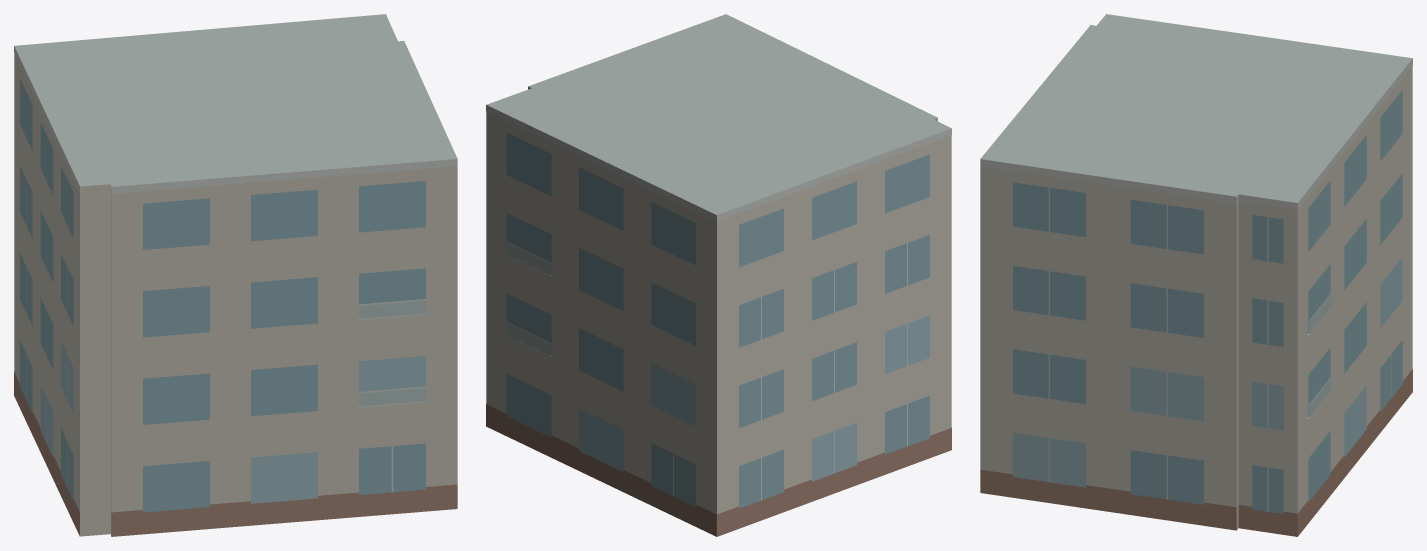
The model's file is survey-upis-32875049.glb.
3 views of the same model, side by side, from view 1: azimuth 30°, elevation 25°; view 2: azimuth 150°, elevation 25°; view 3: azimuth 270°, elevation 25° (orthographic). The views are drawn at different scales.
Parts seen in each view (by area): view 1: survey-upis-32875049.tmp; view 2: survey-upis-32875049.tmp; view 3: survey-upis-32875049.tmp.
Boxes of the visible parts, box(x1,y1,x2,y2) form: survey-upis-32875049.tmp: box(14, 14, 457, 536); survey-upis-32875049.tmp: box(486, 14, 951, 536); survey-upis-32875049.tmp: box(980, 14, 1412, 536).
Size of the model in its own units: 14.34 by 11.8 by 13.87.
